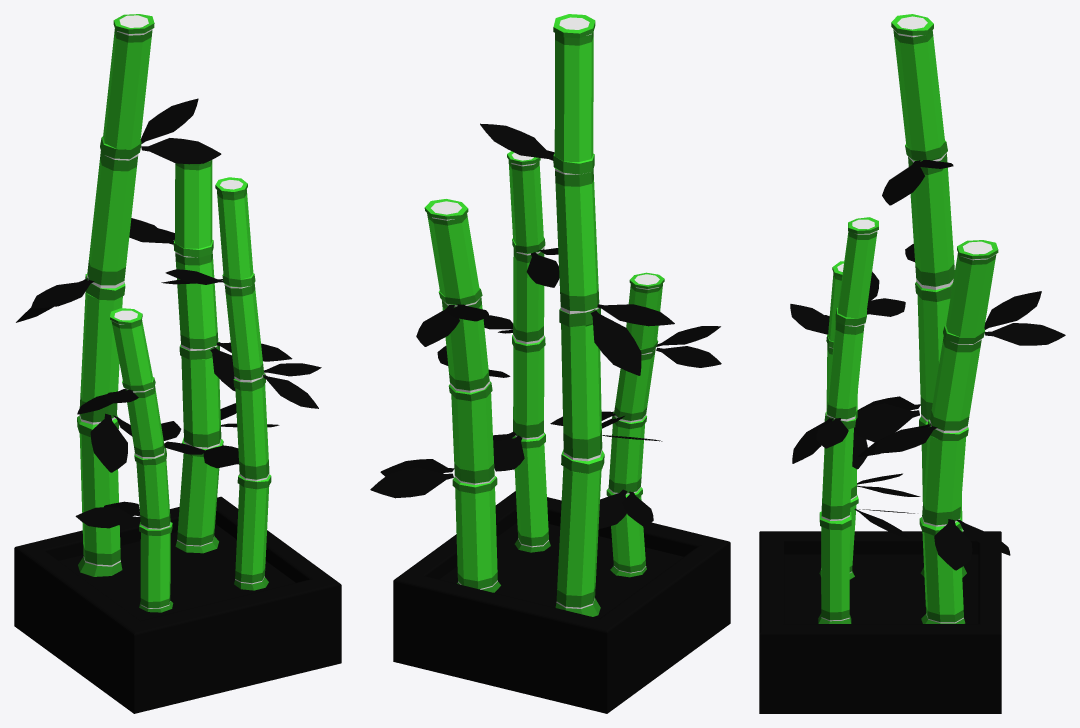
The model's file is low_poly_bamboo.fbx.
3 renders of one model, left to right at view 1: azimuth 30°, elevation 25°; view 2: azimuth 150°, elevation 25°; view 3: azimuth 270°, elevation 25°, orthographic. The views are drawn at different scales.
Parts seen in each view (by area): view 1: Cube; view 2: Cube; view 3: Cube.
Part boxes in pixels (box(x1,y1,x2,y2)): Cube: box(14, 14, 341, 713); Cube: box(370, 14, 730, 713); Cube: box(759, 14, 1065, 713).
Size of the model in its own units: 17.44 by 38.66 by 17.12.
